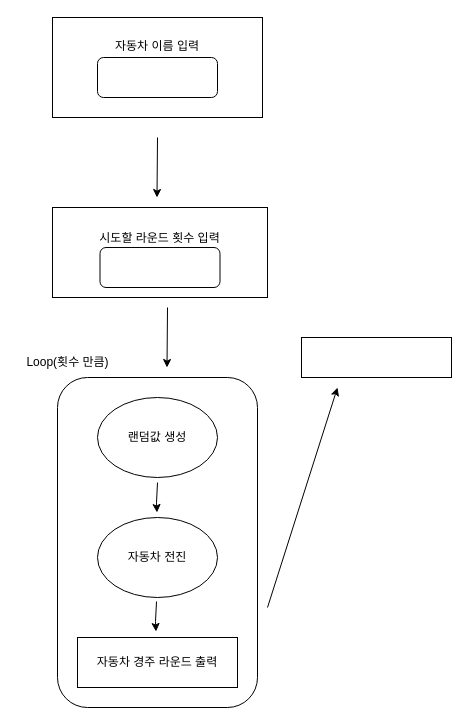
Some shapes in this 469 by 725 pixel diagram are drawn without their labels. Here are the shapes that lost their labels. From the top down, the centre of each, then its label:
(x=157, y=77): 자동차 이름 유효성 확인
(x=159, y=267): 숫자 포맷 확인
(x=376, y=357): 우승자 출력
